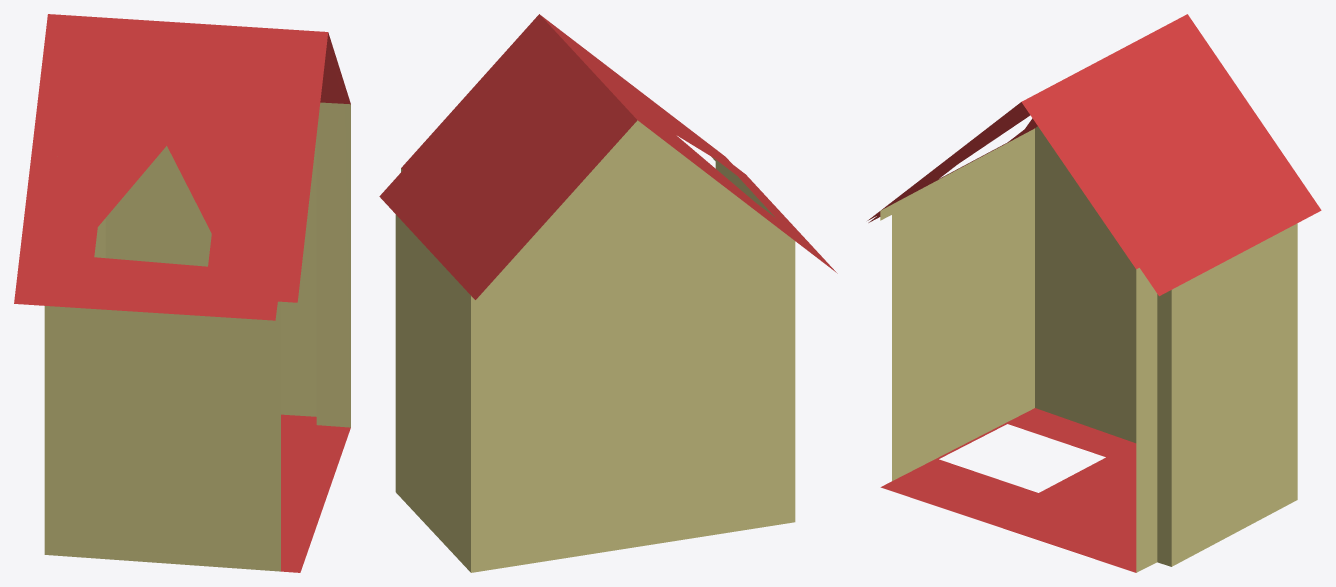
The picture shows the model from 3 angles, left to right: view 1: azimuth 30°, elevation 25°; view 2: azimuth 150°, elevation 25°; view 3: azimuth 270°, elevation 25°; orthographic projection. The views are drawn at different scales.
Bounding box in the file's own units: 15.6 × 16.04 × 16.82.
